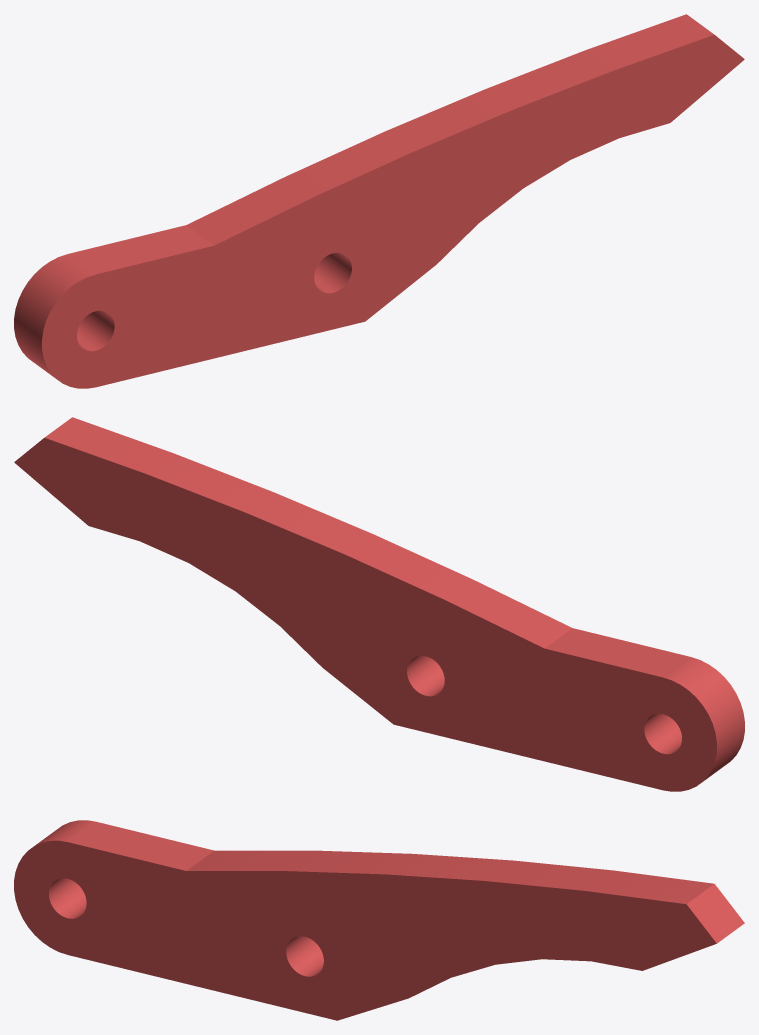
3 views of the same model, one above another, from view 1: azimuth 30°, elevation 25°; view 2: azimuth 150°, elevation 25°; view 3: azimuth 330°, elevation 25° (orthographic).
Parts seen in each view (by area): view 1: Part8; view 2: Part8; view 3: Part8.
Boxes of the visible parts, box(x1,y1,x2,y2) form: Part8: box(14, 14, 744, 388); Part8: box(14, 417, 744, 791); Part8: box(14, 820, 744, 1020).
Size of the model in its own units: 0.0652 by 0.0179 by 0.0045.
